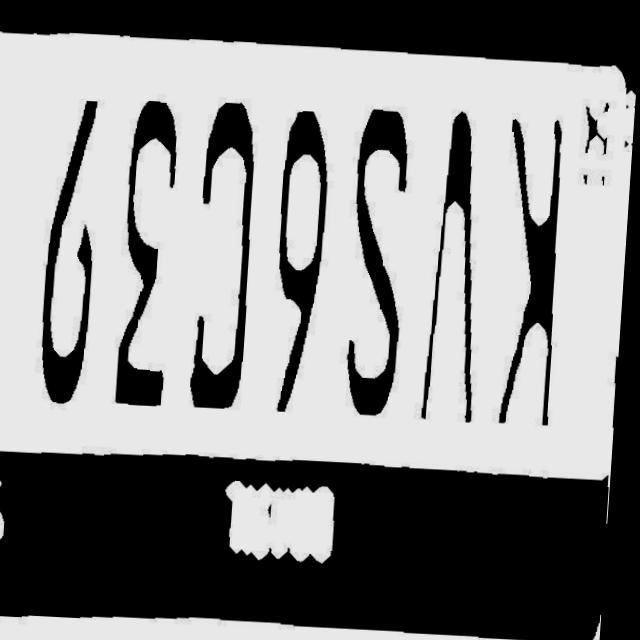3: (110, 87, 192, 422)
6: (262, 101, 352, 431)
9: (9, 87, 116, 412)
c: (174, 96, 265, 420)
k: (484, 105, 581, 431)
s: (335, 105, 417, 442)
v: (406, 112, 496, 455)
